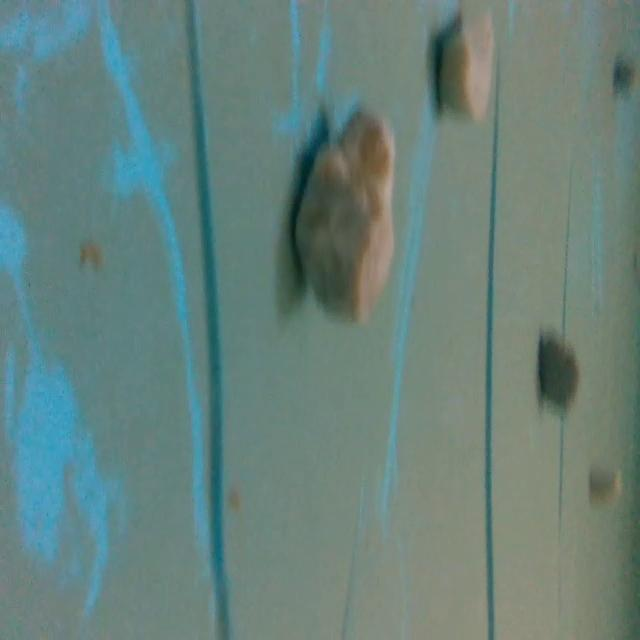rock: (289, 89, 404, 330), (428, 5, 504, 126)
